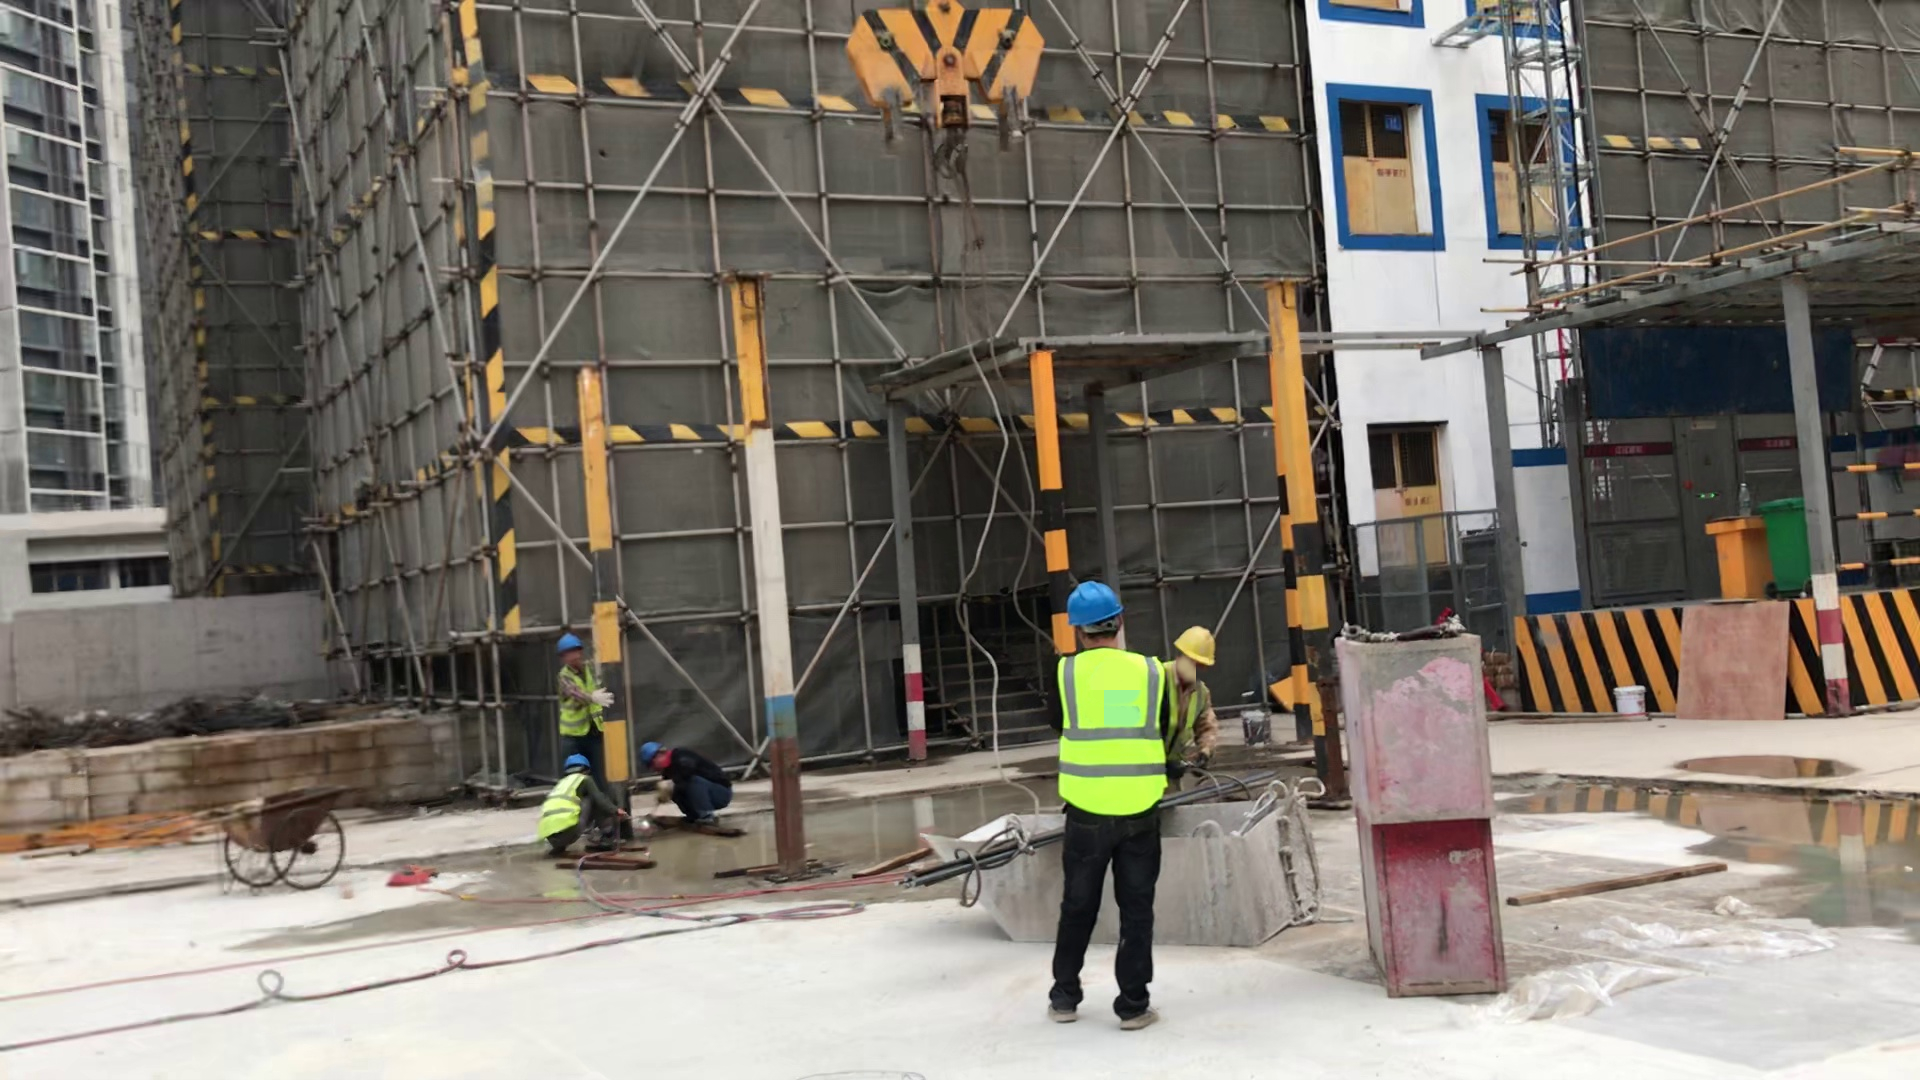fence: (1826, 455, 1920, 589)
handcart: (165, 774, 394, 916)
helmet: (1058, 579, 1133, 638), (1170, 615, 1223, 672), (547, 627, 588, 664), (639, 733, 666, 777), (562, 750, 594, 772)
hook: (811, 1, 1091, 195)
hopper: (911, 782, 1333, 953)
person: (1036, 568, 1173, 1037), (624, 716, 775, 876), (533, 610, 643, 769), (528, 743, 647, 888), (1163, 608, 1247, 800)
rebar: (880, 809, 1044, 911)
vest: (1049, 646, 1172, 824), (1156, 650, 1210, 774), (534, 768, 594, 853), (553, 658, 612, 739)
